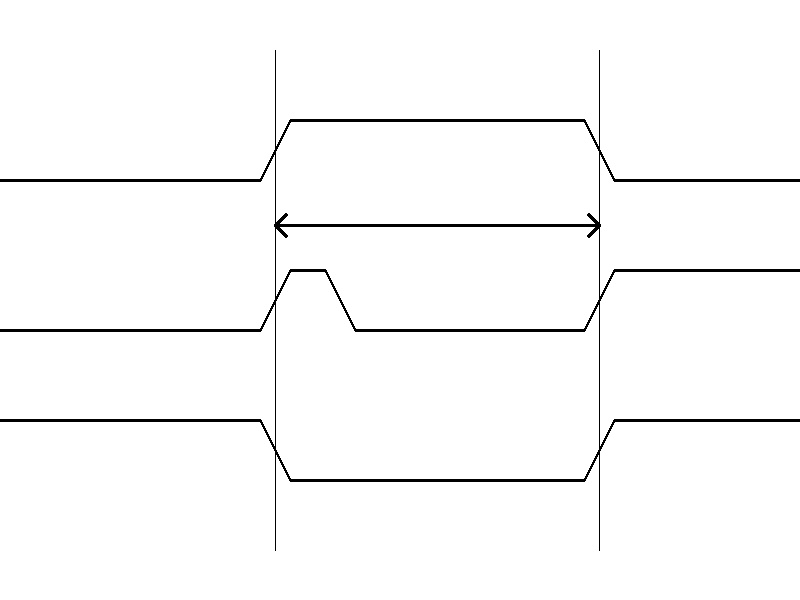double_arrow: (275, 210, 599, 240)
